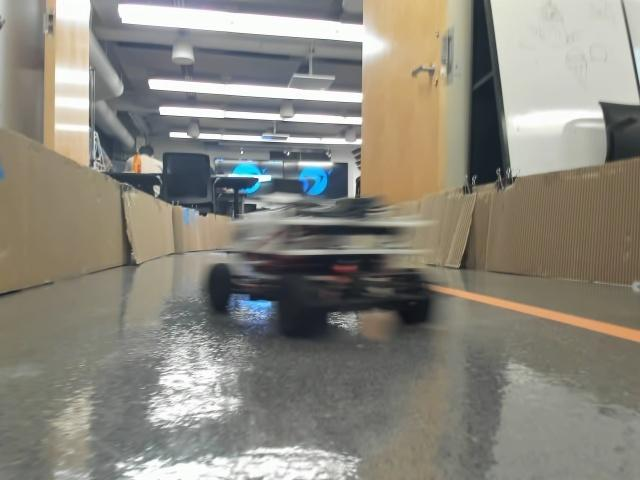Car: (215, 179, 431, 329)
